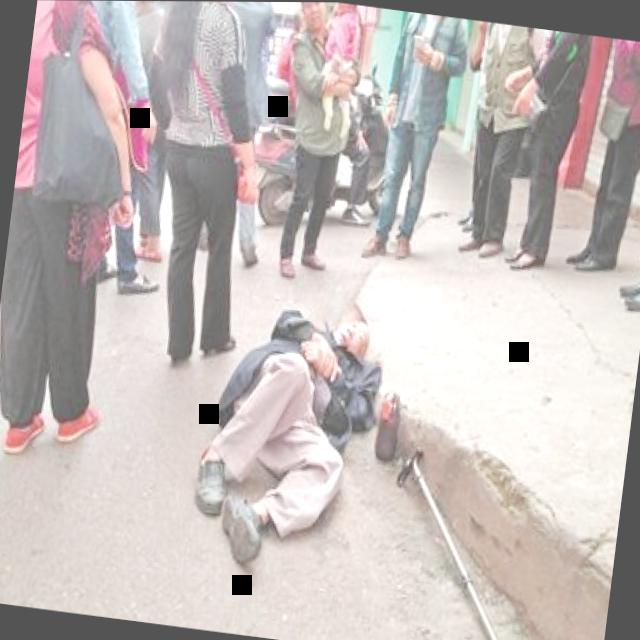Fall-Detected: (182, 259, 406, 598)
